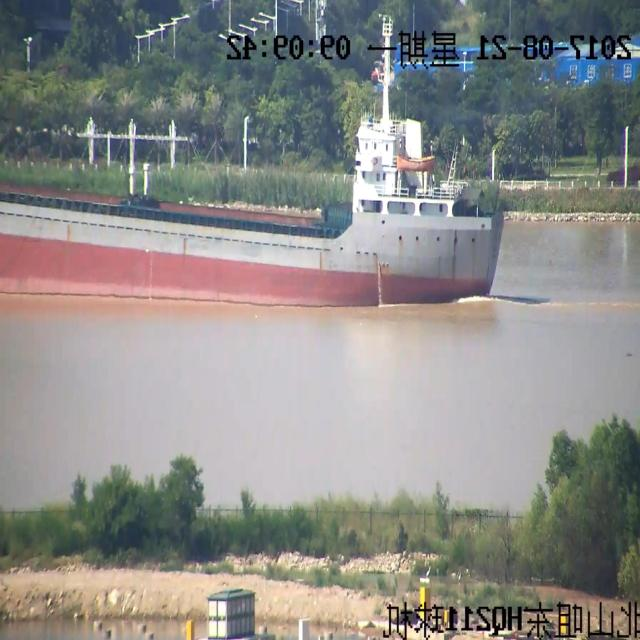cargoship: (0, 72, 490, 328)
